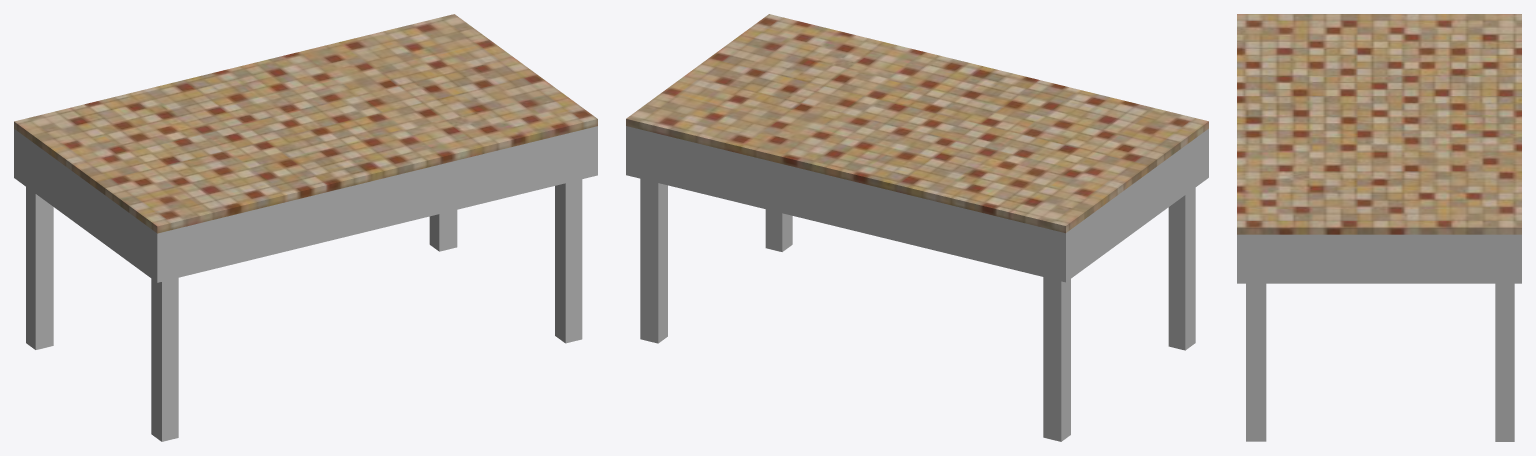
The model's file is parts_base_10d.fbx.
3 renders of one model, left to right at view 1: azimuth 30°, elevation 25°; view 2: azimuth 150°, elevation 25°; view 3: azimuth 270°, elevation 25°, orthographic.
Parts seen in each view (by area): view 1: parts_base_10d; view 2: parts_base_10d; view 3: parts_base_10d.
Boxes of the visible parts, box(x1,y1,x2,y2) form: parts_base_10d: box(14, 14, 597, 441); parts_base_10d: box(626, 14, 1208, 441); parts_base_10d: box(1237, 14, 1521, 441).
Size of the model in its own units: 12.08 by 5.79 by 6.81.
